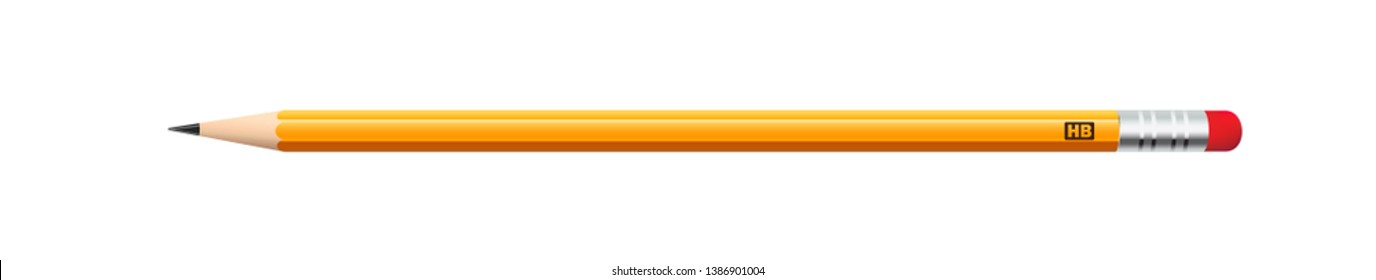pencil: (132, 60, 1288, 227)
